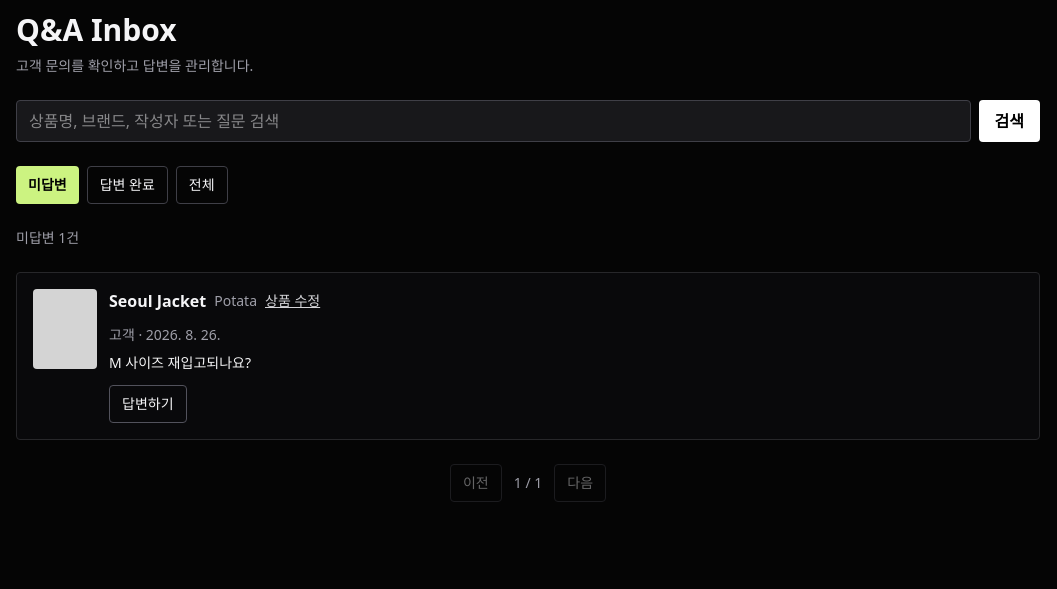
AdminQuestionsInbox › shows a retryable safe error when the list request fails
The width and height of the screenshot is (1057, 589).
# the operator opens the answered filter
Click the button "답변 완료" at {"x": 127, "y": 185}, box [87,166,168,204]
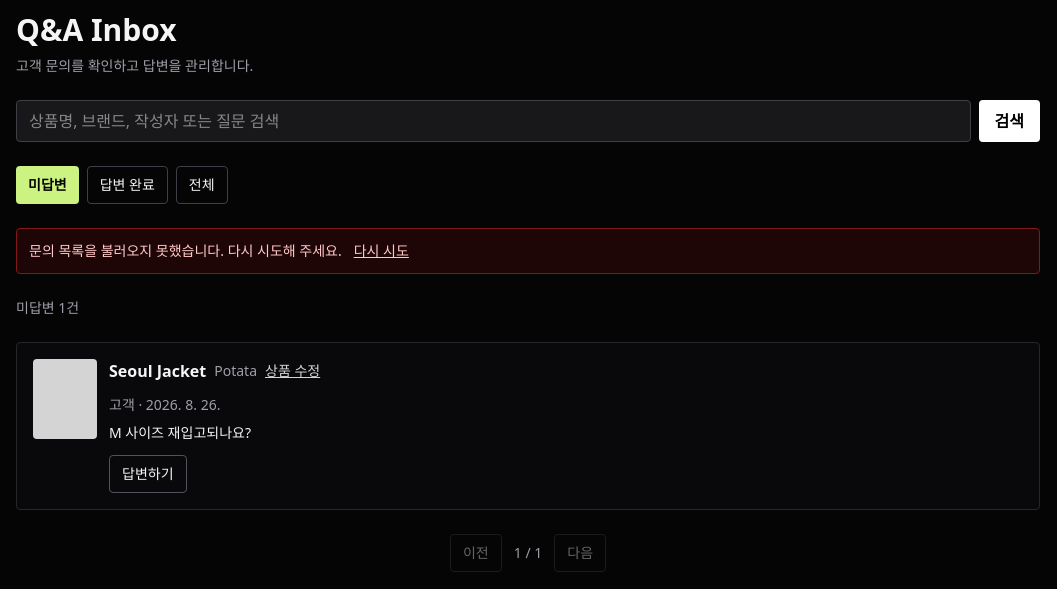
Now the message "문의 목록을 불러오지 못했습니다. 다시 시도해 주세요. 다시 시도" is shown, box [16,228,1040,274]
Now the button "다시 시도" is shown, box [354,241,409,261]
